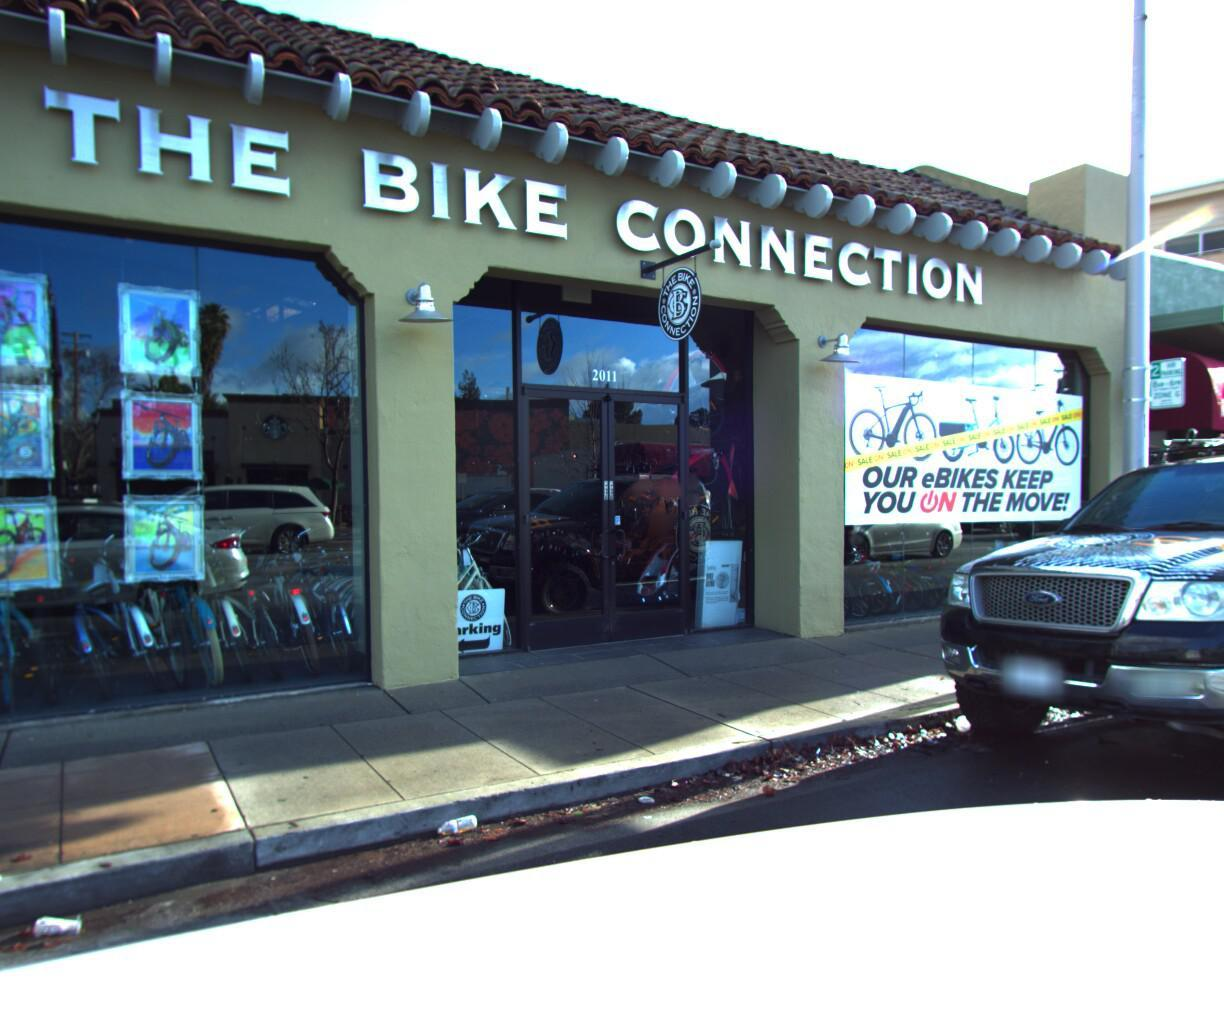car: (880, 391, 1224, 875)
